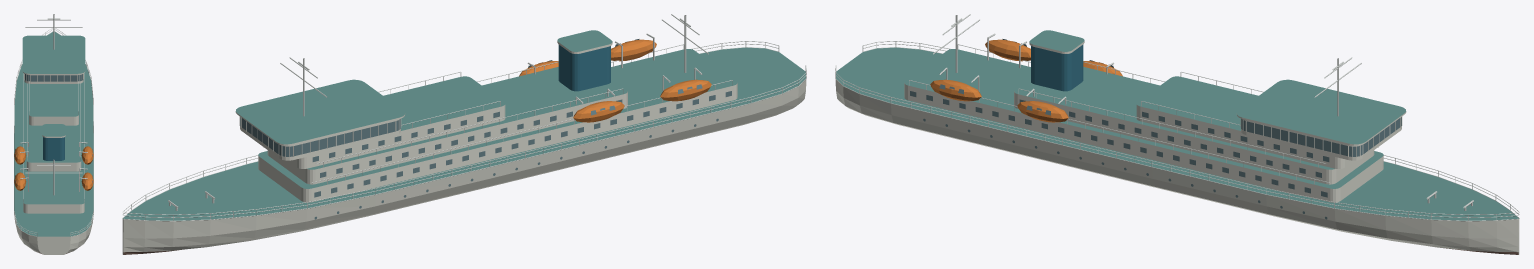
3 renders of one model, left to right at view 1: azimuth 30°, elevation 25°; view 2: azimuth 150°, elevation 25°; view 3: azimuth 270°, elevation 25°, orthographic. The views are drawn at different scales.
Visible parts, largest first — view 1: facility_training-ship-hannara; view 2: facility_training-ship-hannara; view 3: facility_training-ship-hannara.
Part boxes in pixels (x1,y1,x2,y2): facility_training-ship-hannara: (14,14,93,254); facility_training-ship-hannara: (122,14,806,254); facility_training-ship-hannara: (835,14,1519,254).
Bounding box in the file's own units: 62.54 × 24.72 × 101.
